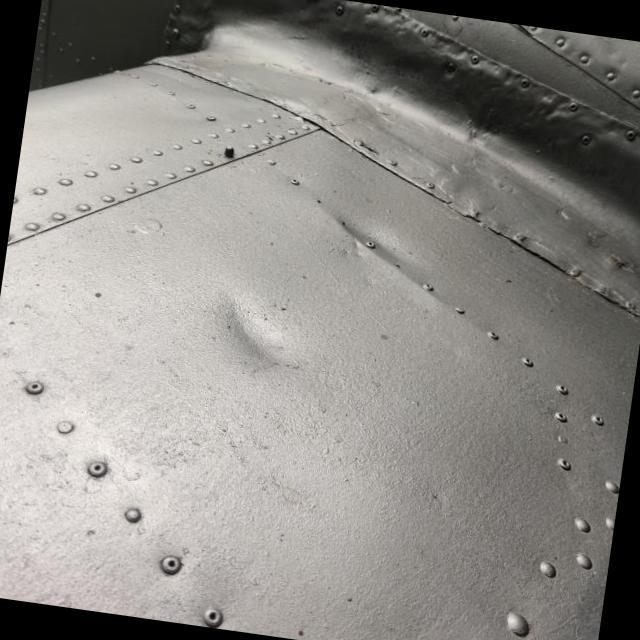Dent: (172, 270, 337, 426), (306, 180, 445, 314)
